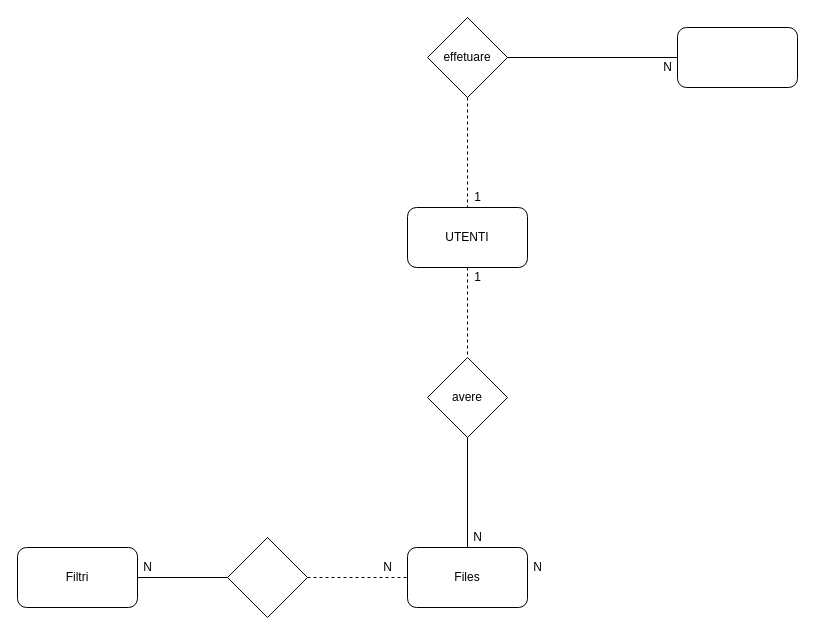
This 815x635 diagram has some shape labels left out. Each missing label, with the box of its shape:
CONNESSIONI: (676, 26, 798, 88)
elaborare: (226, 536, 308, 618)
